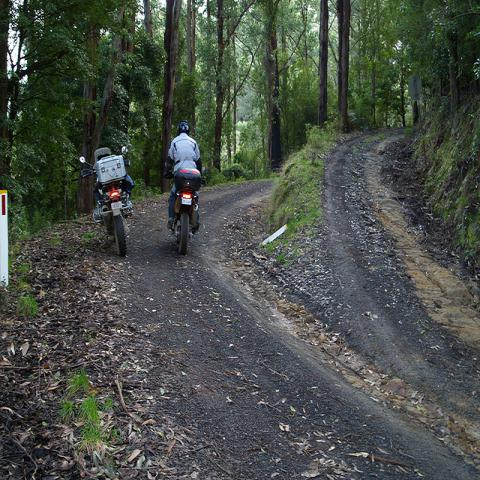motorcycle: (79, 146, 134, 256), (171, 158, 202, 255)
